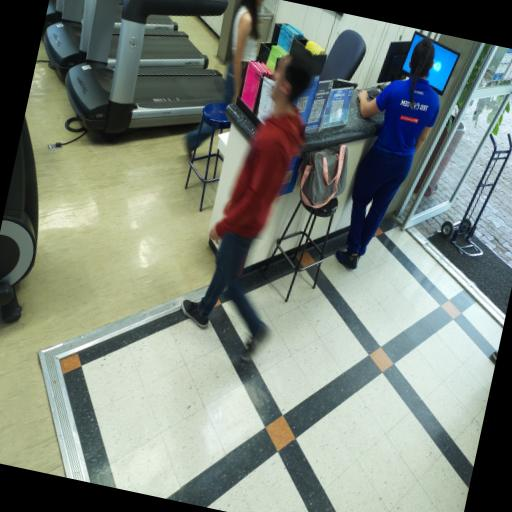person: (181, 53, 311, 359), (336, 38, 438, 269), (223, 0, 262, 104), (490, 348, 498, 362)
